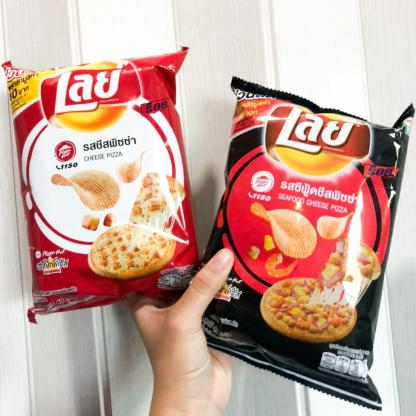potatochip: (184, 64, 416, 415), (0, 41, 208, 328)
